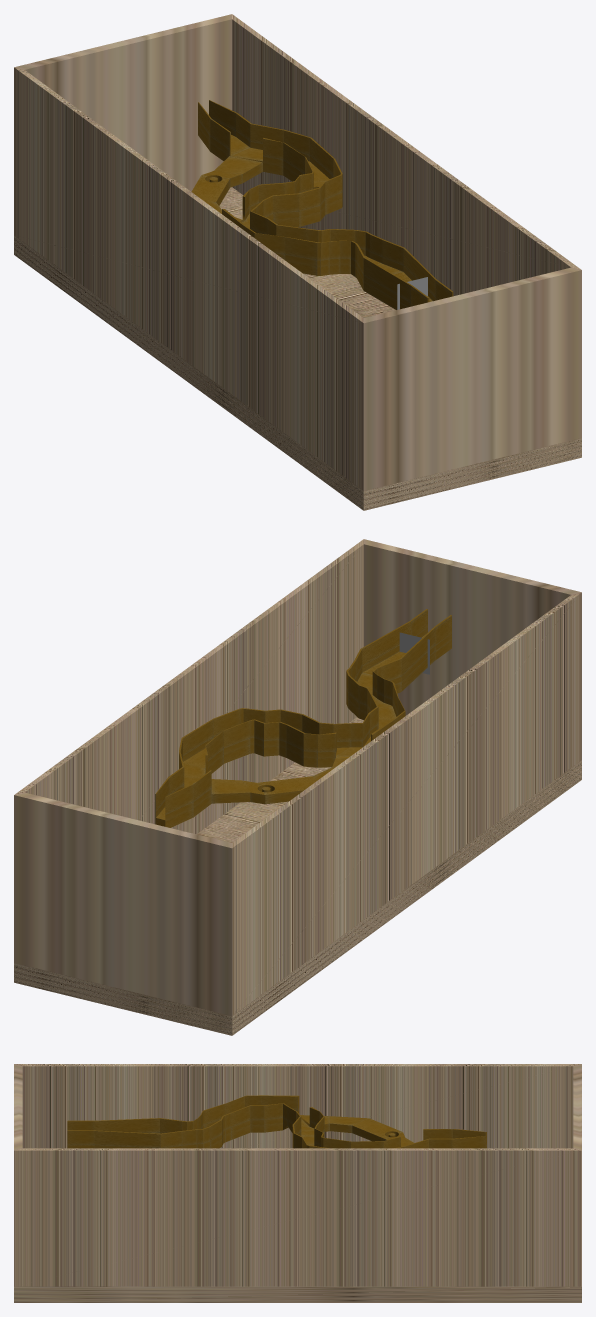
The model's file is Stage5.fbx.
3 renders of one model, top to bottom at view 1: azimuth 30°, elevation 25°; view 2: azimuth 150°, elevation 25°; view 3: azimuth 270°, elevation 25°, orthographic. The views are drawn at different scales.
Parts seen in each view (by area): view 1: Box001, Box002; view 2: Box001, Box002; view 3: Box001, Box002.
Boxes of the visible parts, bbox=[...] form: Box001: bbox=[14, 14, 581, 510]; Box002: bbox=[191, 100, 453, 309]; Box001: bbox=[14, 539, 581, 1035]; Box002: bbox=[155, 609, 451, 827]; Box001: bbox=[14, 1064, 581, 1302]; Box002: bbox=[67, 1095, 486, 1148].
Bounding box in the file's own units: 13018 × 36147 × 10694.
